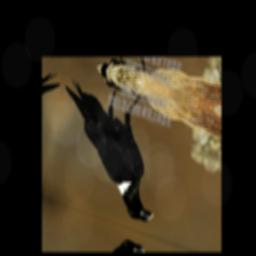Crow: (46, 63, 176, 225)
